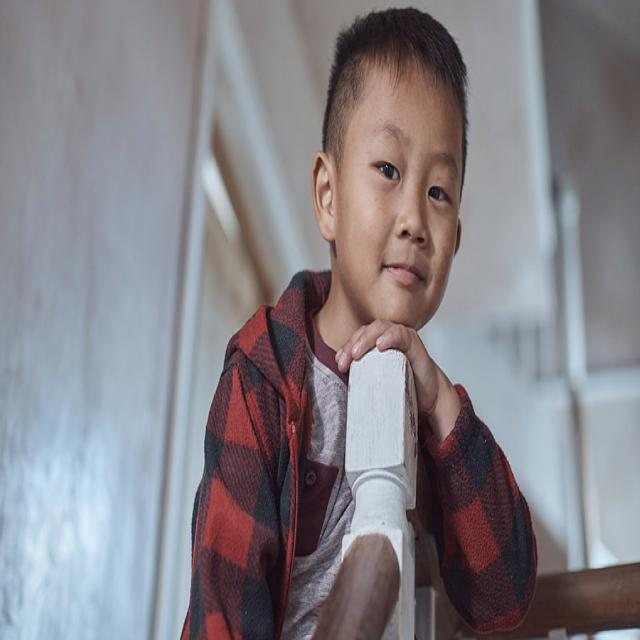child: (178, 7, 536, 640)
